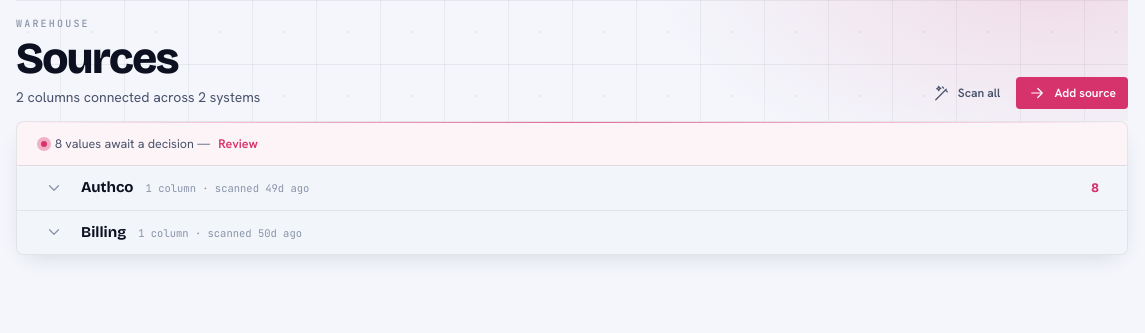
Sources route › collapsing a system hides its rows
The image size is (1145, 333).
Expected: the text "Plan" is not shown
Click the button "authco 1 column · scanned 49d ago 8".
click(107, 187)  # box [17,166,1127,210]
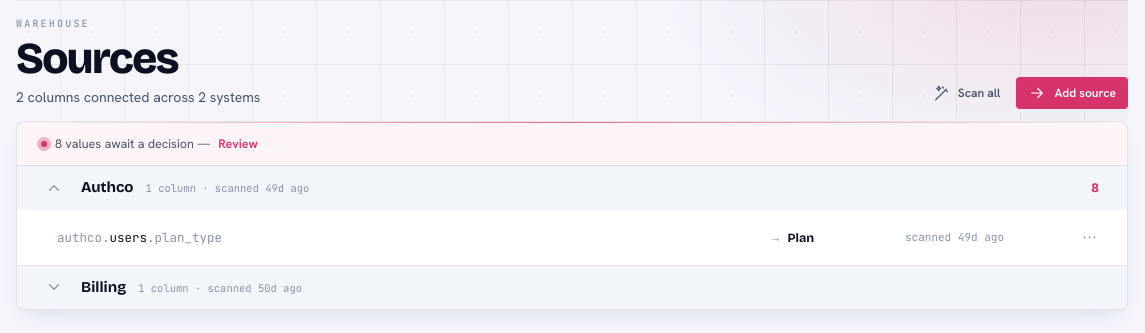
Now the text "Plan" is shown, box [788,230,814,244]
Click the button "authco 1 column · scanned 49d ago 8".
click(107, 187)  # box [17,166,1127,210]
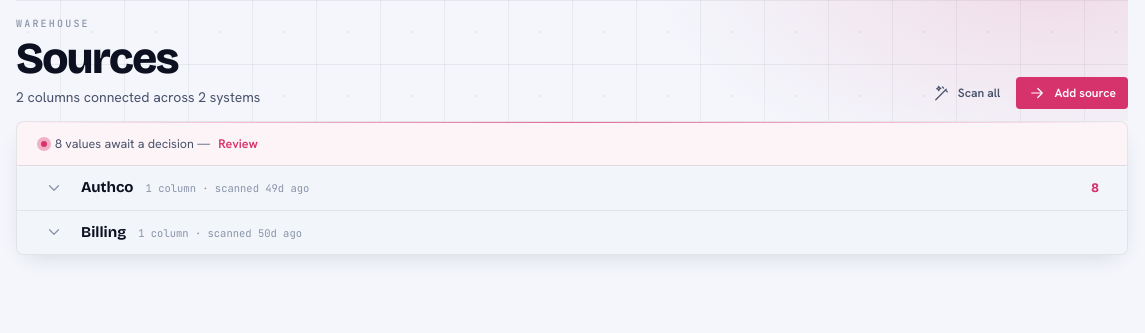
Now the text "plan" is gone
